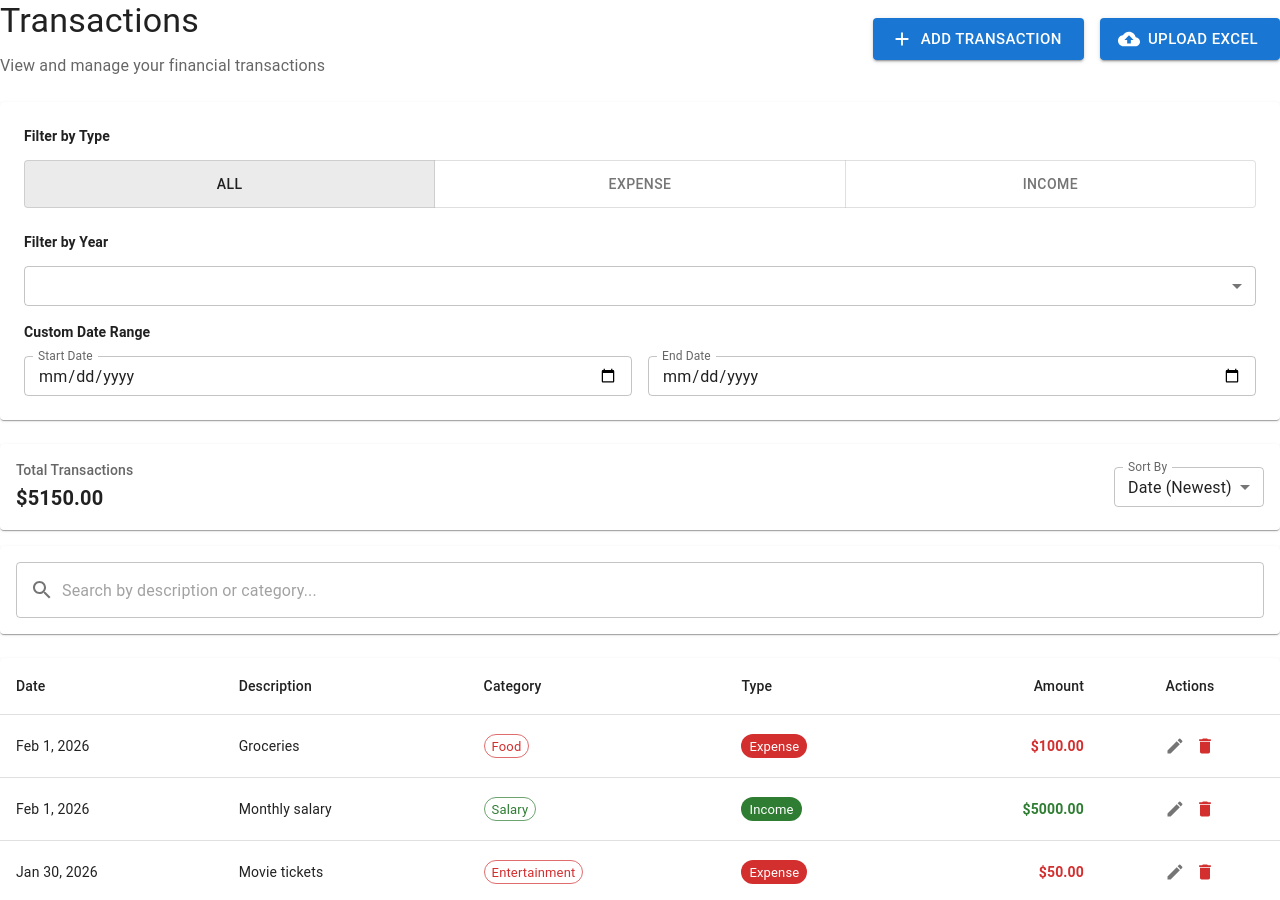
Transactions Component › Delete Transaction › opens delete confirmation dialog when delete button is clicked
The width and height of the screenshot is (1280, 900).
Expected: the text "Groceries" is shown, [223, 715, 468, 778]
Find and click the delete button for the first transaction
What coordinates should you click on to do the following:
click the button named "delete" in the row of "Groceries"
I would click on:
 (1205, 746)
Its box is [1190, 731, 1220, 761].
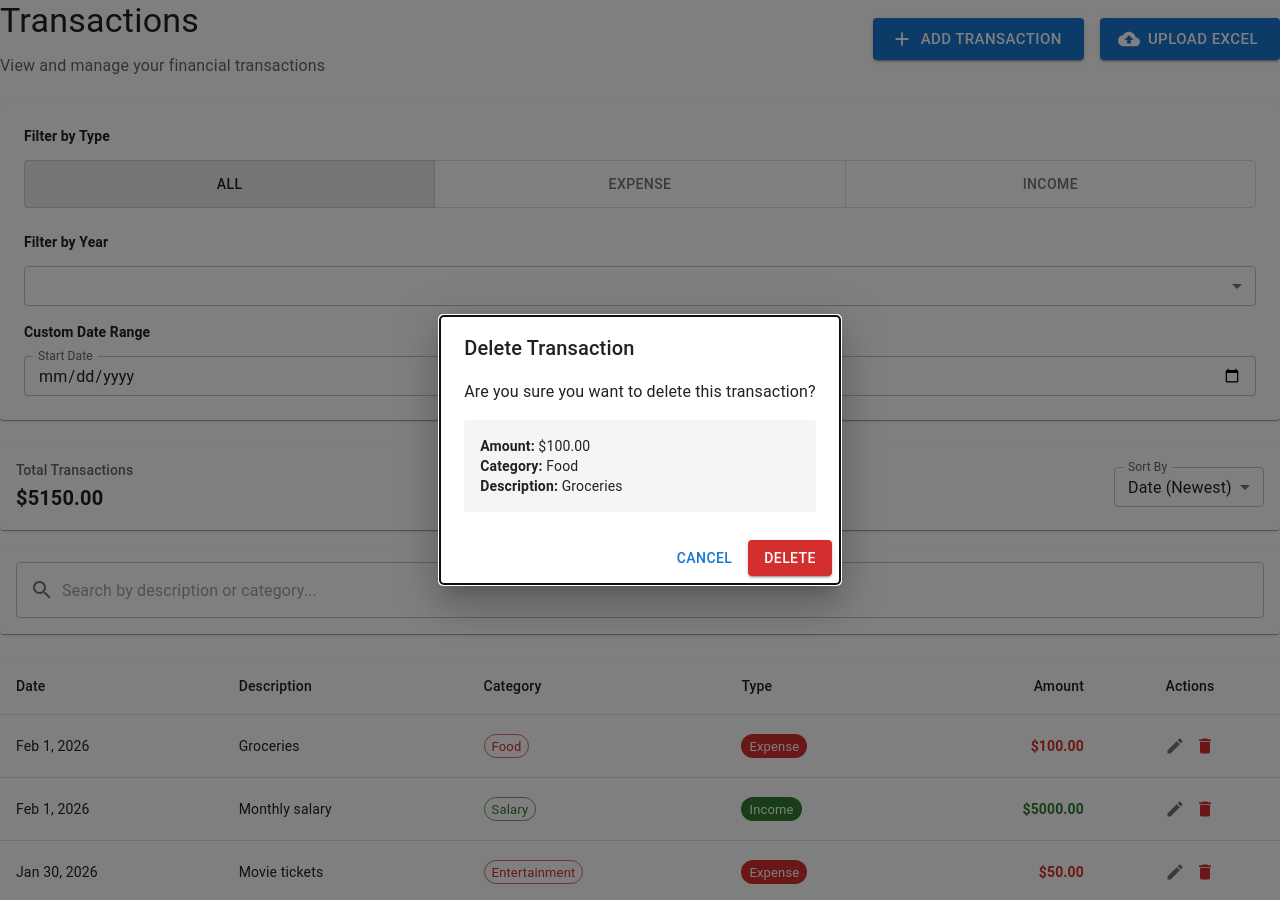
Expected: the text "Are you sure you want to delete this transaction?" is shown, [464, 380, 816, 404]
